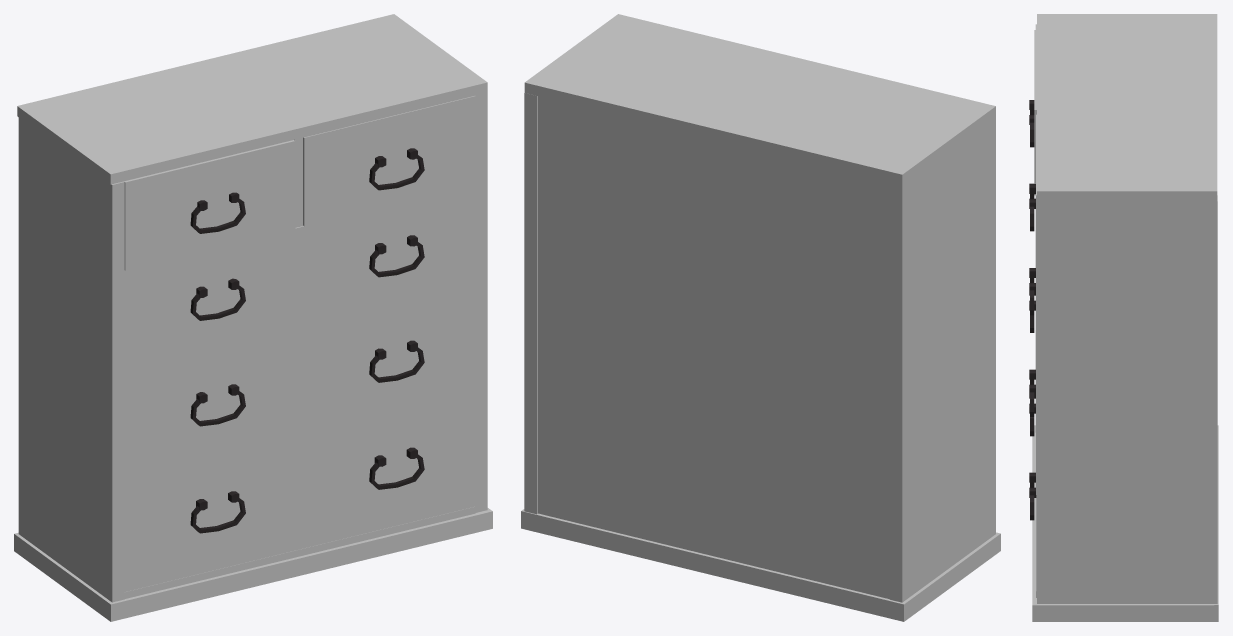
File: jov_chest01b.fbx
The picture shows the model from 3 angles, left to right: view 1: azimuth 30°, elevation 25°; view 2: azimuth 150°, elevation 25°; view 3: azimuth 270°, elevation 25°; orthographic projection. The views are drawn at different scales.
Visible parts, largest first — view 1: jov_chest01b; view 2: jov_chest01b; view 3: jov_chest01b.
Boxes of the visible parts, x1,y1,x2,y2 form: jov_chest01b: (14,14,492,621); jov_chest01b: (521,14,1000,621); jov_chest01b: (1029,14,1218,621).
Bounding box in the file's own units: 119 × 133 × 53.11.
